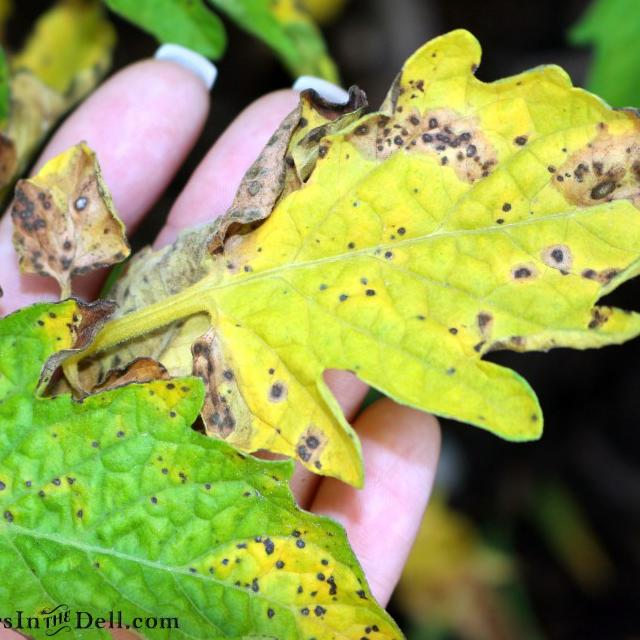Tomato Septoria leaf spot: (179, 40, 616, 449), (0, 309, 404, 640)
